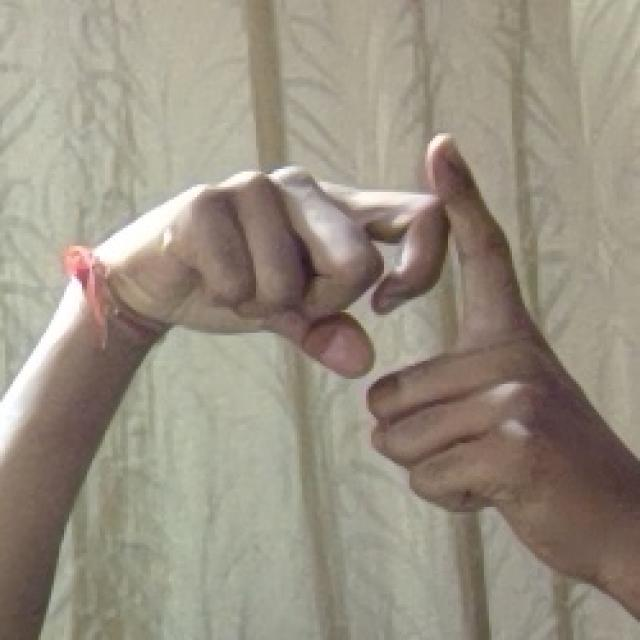Alphabet-K: (90, 127, 590, 581)
